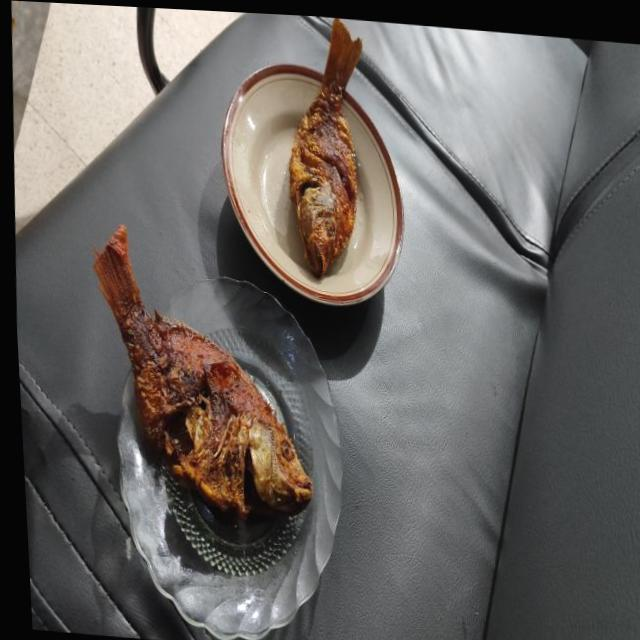ikan_mujair: (93, 225, 312, 518), (288, 18, 362, 276)
